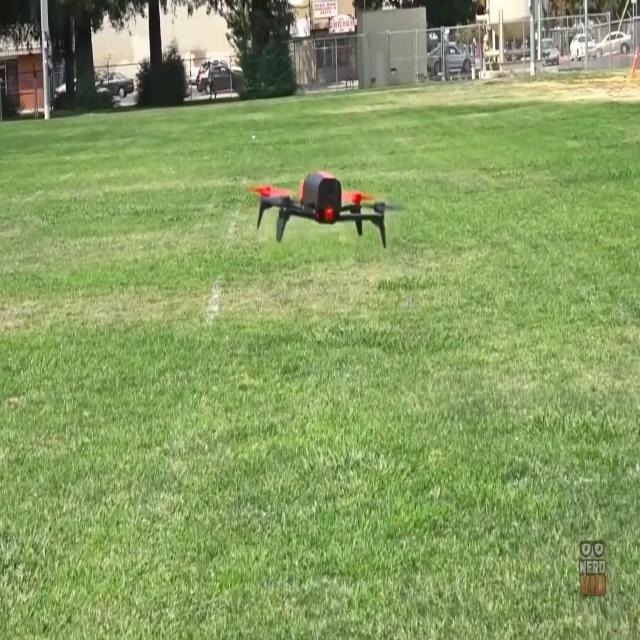drone: (244, 167, 408, 249)
